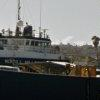Boat: (1, 20, 65, 74)
